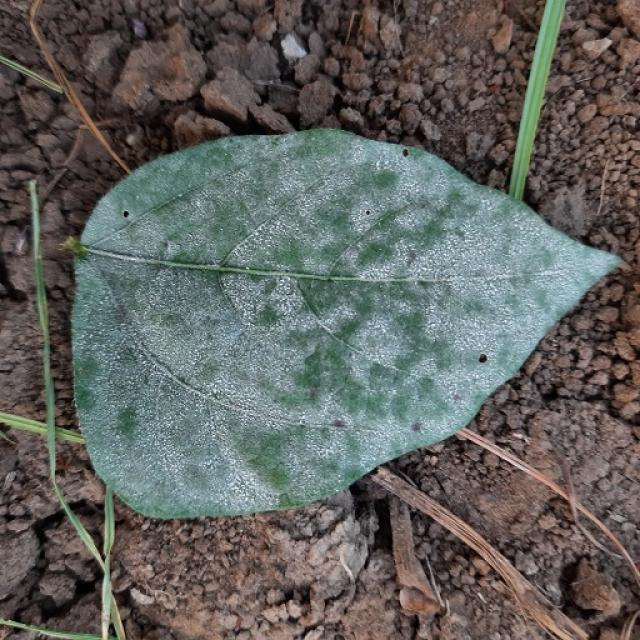Blackgram: (71, 130, 619, 518)
Powdery_Mildew: (87, 134, 432, 283), (276, 311, 447, 434), (359, 186, 546, 282), (146, 274, 276, 381), (79, 282, 167, 437), (401, 268, 536, 367), (244, 148, 378, 230), (319, 196, 425, 284), (519, 228, 621, 310), (221, 263, 305, 331), (223, 264, 308, 330), (369, 305, 435, 354), (299, 272, 351, 322), (243, 431, 296, 479), (297, 345, 345, 393), (257, 458, 292, 492), (113, 404, 140, 435), (370, 169, 398, 190), (163, 239, 182, 259), (260, 278, 278, 296), (278, 493, 294, 508), (211, 388, 222, 400), (453, 393, 463, 402), (245, 266, 251, 270)
